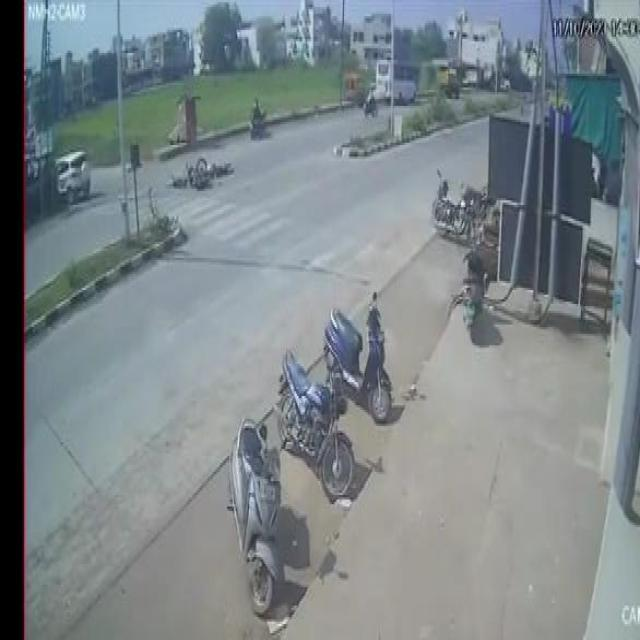accident: (171, 150, 233, 194)
